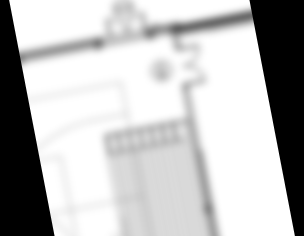double door: (175, 42, 207, 88), (103, 11, 149, 41)
wall: (181, 82, 223, 236), (19, 33, 103, 65), (176, 9, 253, 40), (150, 19, 181, 40)
